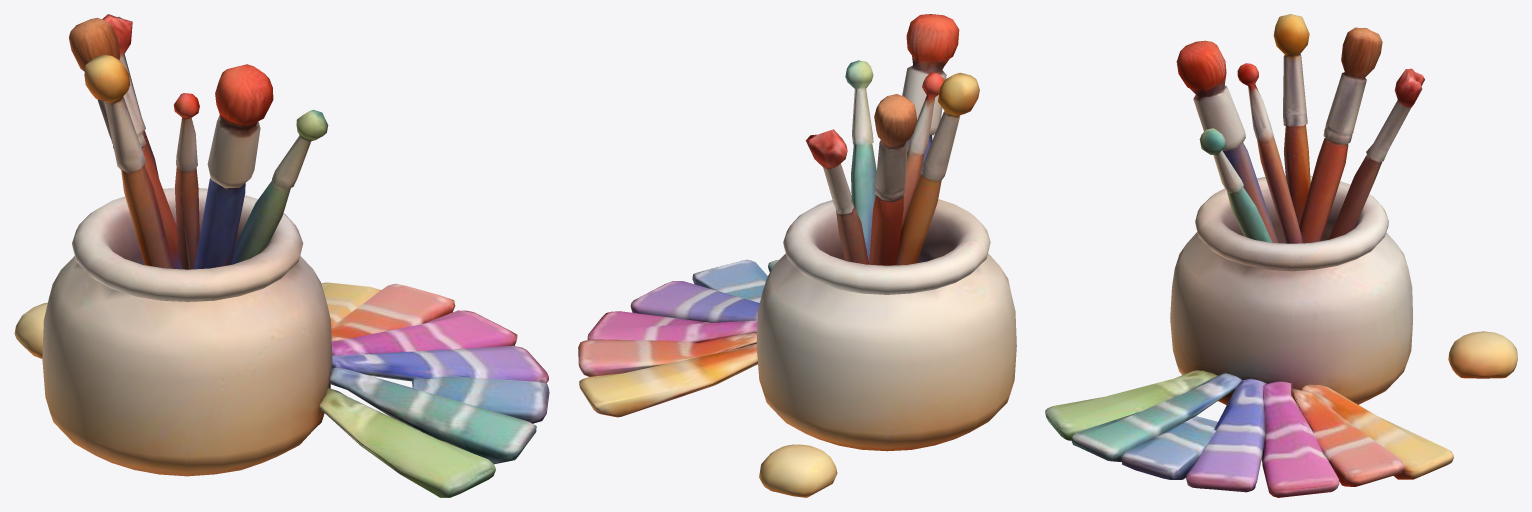
Rendered from desk-design.glb.
The picture shows the model from 3 angles, left to right: view 1: azimuth 30°, elevation 25°; view 2: azimuth 150°, elevation 25°; view 3: azimuth 270°, elevation 25°; orthographic projection. The views are drawn at different scales.
Visible parts, largest first — view 1: tripo_node_d1b7b47f-0603-4936-ad03-12dfc4884e94; view 2: tripo_node_d1b7b47f-0603-4936-ad03-12dfc4884e94; view 3: tripo_node_d1b7b47f-0603-4936-ad03-12dfc4884e94.
Boxes of the visible parts, x1=… form: tripo_node_d1b7b47f-0603-4936-ad03-12dfc4884e94: x1=14, y1=14, x2=549, y2=497; tripo_node_d1b7b47f-0603-4936-ad03-12dfc4884e94: x1=578, y1=14, x2=1016, y2=497; tripo_node_d1b7b47f-0603-4936-ad03-12dfc4884e94: x1=1045, y1=14, x2=1517, y2=497.
Size of the model in its own units: 0.916 by 0.7832 by 0.998.
Materials: 1 (1 with a texture image).
